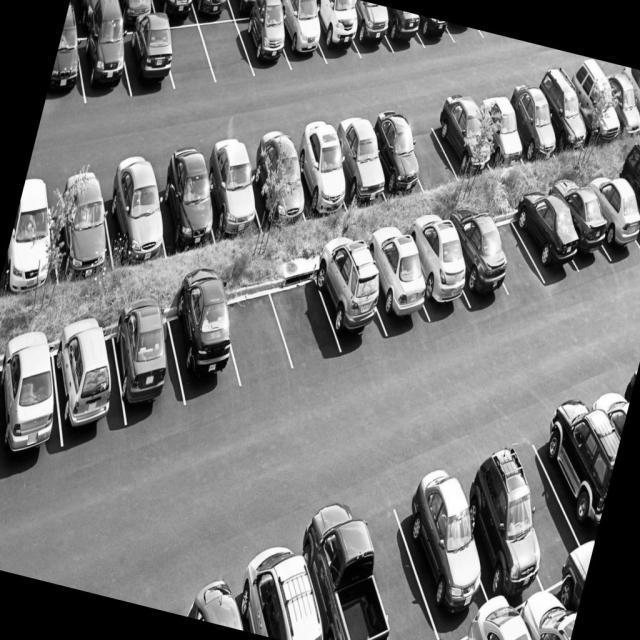car: (370, 444, 508, 634), (260, 486, 420, 640), (434, 429, 562, 613), (507, 380, 629, 557), (32, 296, 138, 457), (148, 259, 254, 409), (379, 199, 489, 342), (208, 530, 349, 640), (290, 234, 404, 365), (98, 284, 194, 432), (546, 367, 634, 518), (94, 138, 186, 280), (345, 219, 442, 352), (0, 317, 75, 487), (42, 148, 129, 294), (530, 165, 628, 292), (144, 134, 234, 270), (428, 196, 526, 317), (236, 116, 326, 244), (60, 0, 150, 126), (502, 180, 592, 302), (0, 170, 72, 318), (558, 159, 640, 283), (459, 62, 542, 180), (204, 127, 284, 249), (278, 114, 359, 232), (424, 82, 506, 198), (160, 563, 284, 638), (320, 105, 399, 219), (352, 99, 433, 209), (108, 0, 192, 106), (522, 50, 604, 158), (491, 58, 571, 158), (553, 59, 631, 160), (42, 0, 102, 119), (222, 0, 297, 90), (594, 136, 640, 260), (258, 0, 337, 72), (299, 0, 369, 67), (500, 584, 580, 640), (590, 63, 640, 149), (444, 608, 570, 640), (336, 0, 394, 61), (137, 0, 205, 39), (0, 352, 16, 514), (182, 0, 245, 36), (622, 137, 640, 251)
free: (314, 460, 468, 640), (479, 413, 596, 579), (209, 274, 309, 413), (255, 258, 353, 394), (469, 196, 559, 315), (191, 0, 269, 101), (390, 102, 466, 204), (154, 5, 230, 100)
